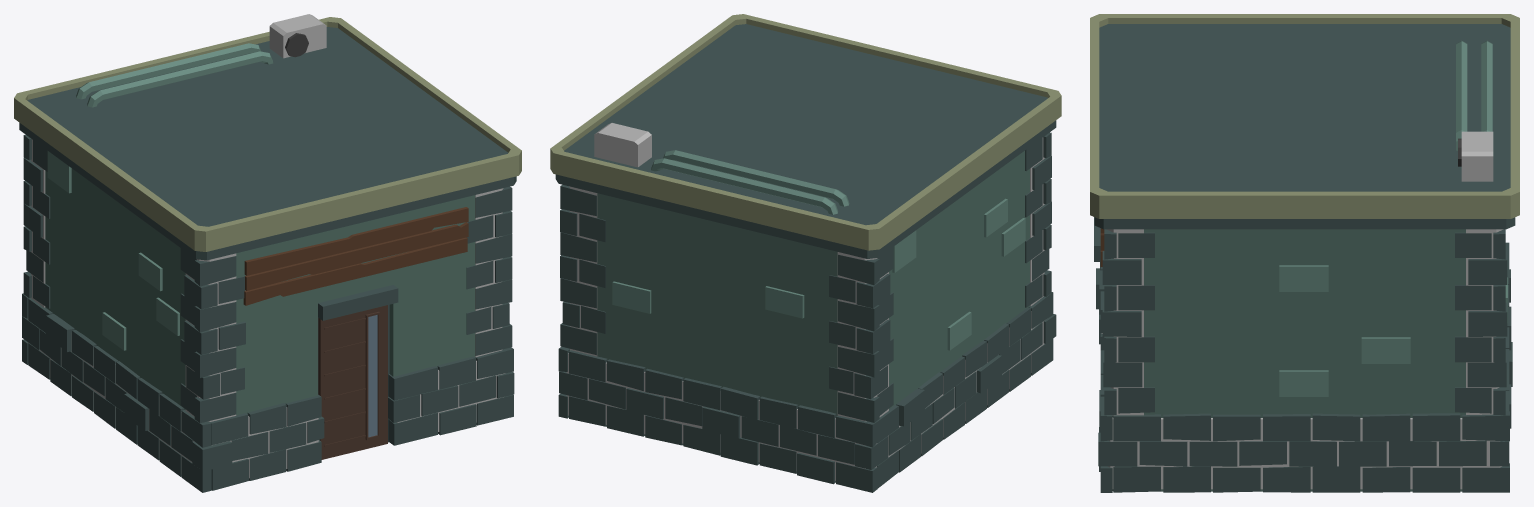
The model's file is 1Story_Sign_Mat.glb.
3 renders of one model, left to right at view 1: azimuth 30°, elevation 25°; view 2: azimuth 150°, elevation 25°; view 3: azimuth 270°, elevation 25°, orthographic. The views are drawn at different scales.
Parts seen in each view (by area): view 1: 1Story_Sign_Mat; view 2: 1Story_Sign_Mat; view 3: 1Story_Sign_Mat.
Part boxes in pixels (box(x1,y1,x2,y2)): 1Story_Sign_Mat: box(14, 14, 521, 492); 1Story_Sign_Mat: box(550, 14, 1061, 492); 1Story_Sign_Mat: box(1090, 14, 1519, 492).
Bounding box in the file's own units: 2.15 × 1.79 × 2.15.
